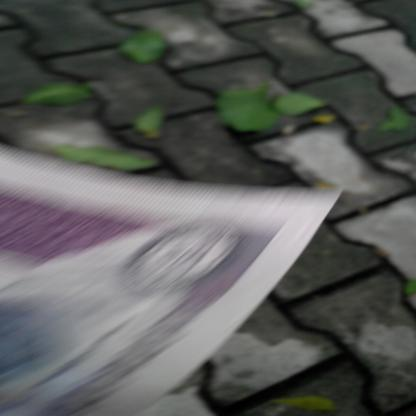Old50Front: (0, 144, 345, 415)
